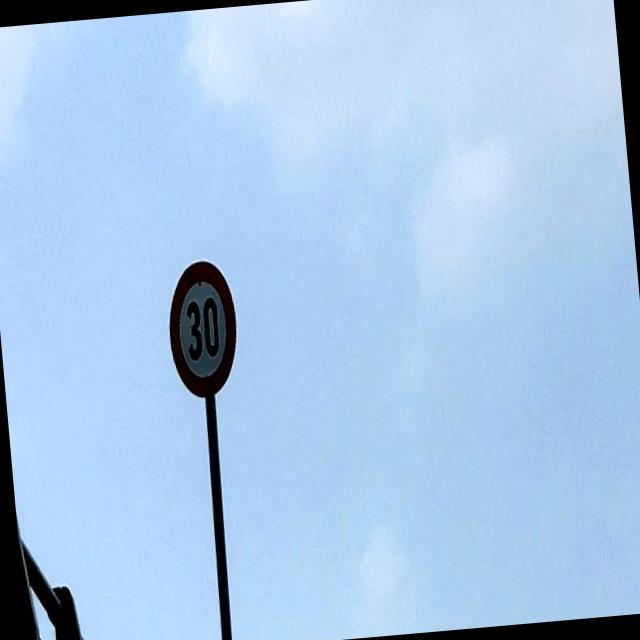P-127: (164, 259, 243, 398)
